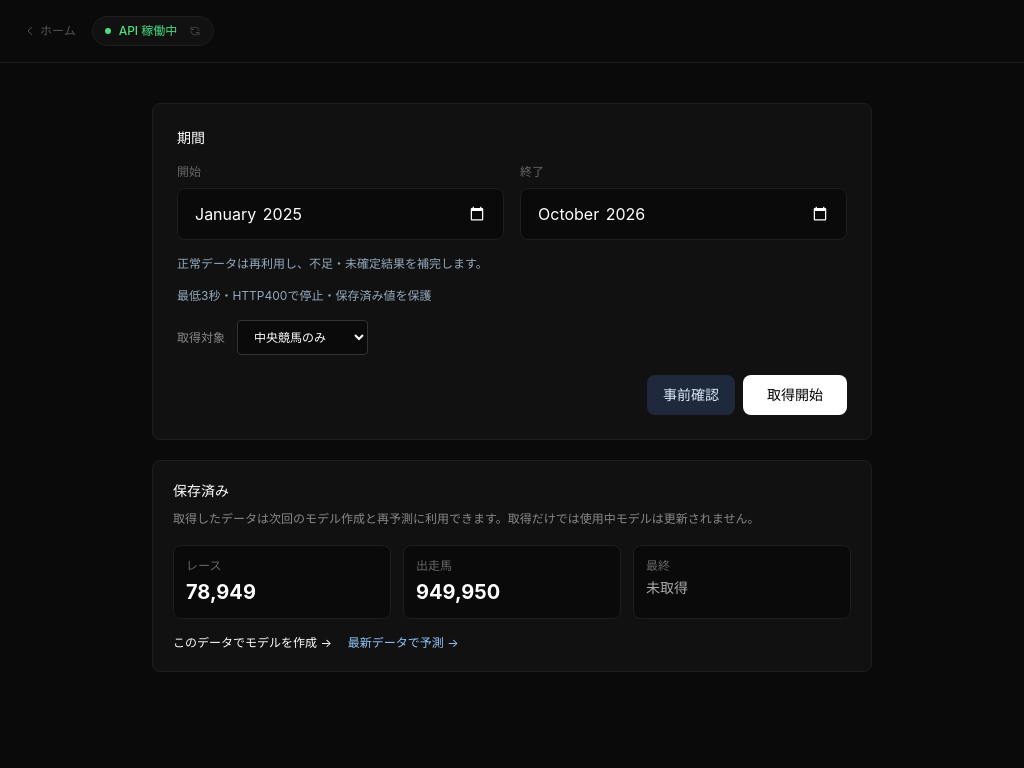
Test: collection acquisition-only presentation › rechecks central capability before preflight instead of trusting an older successful page check
Check: the button with test id "dry-run-button" is enabled, box [647,375,735,415]
Replace the text in the field with test id "start-period-input" with "2026-09" at (340, 214), box [177,188,504,240]
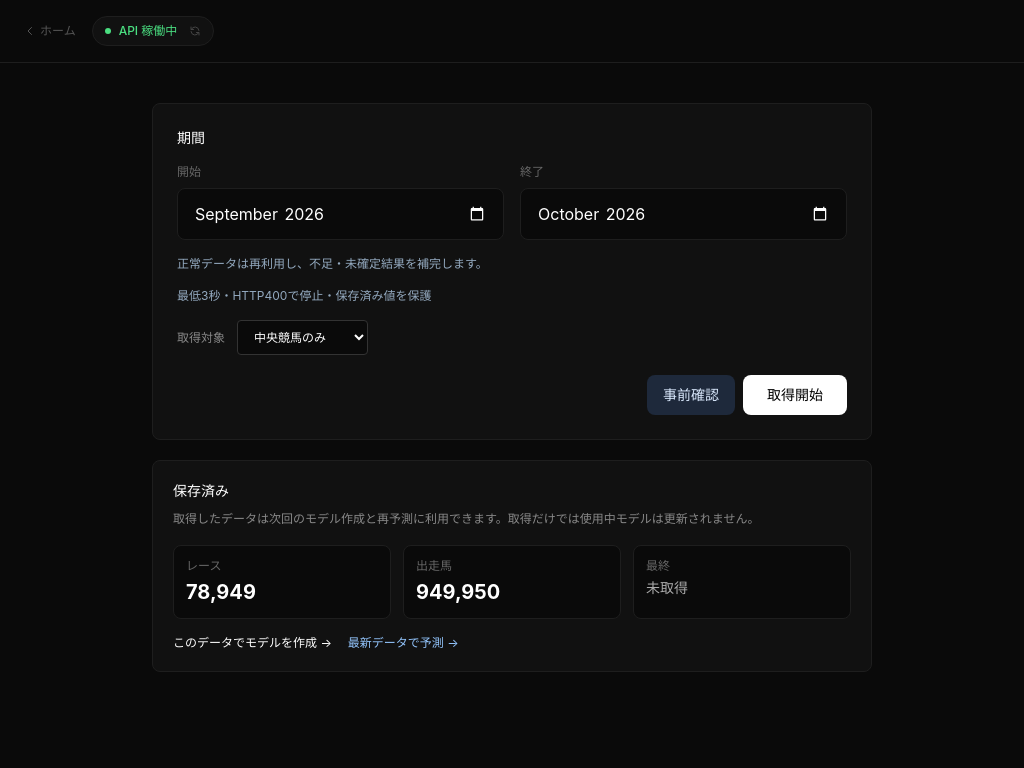
Replace the text in the field with test id "end-period-input" with "2026-09" at (684, 214), box [520,188,847,240]
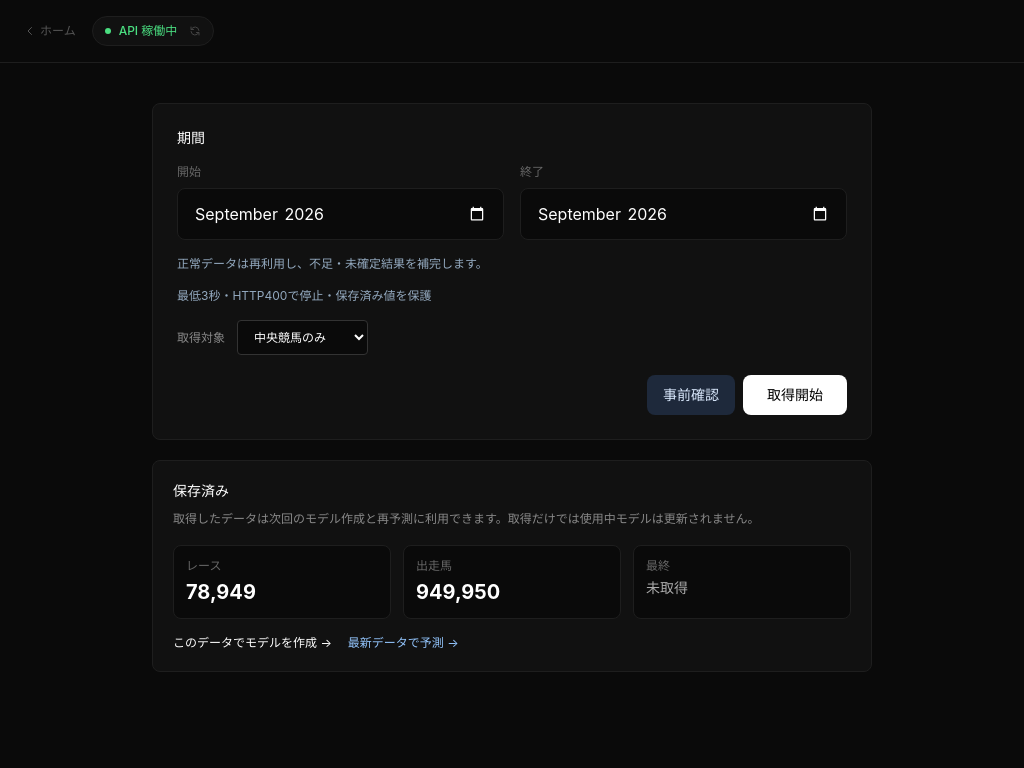
Click the button with test id "dry-run-button".
click(691, 395)  # box [647,375,735,415]
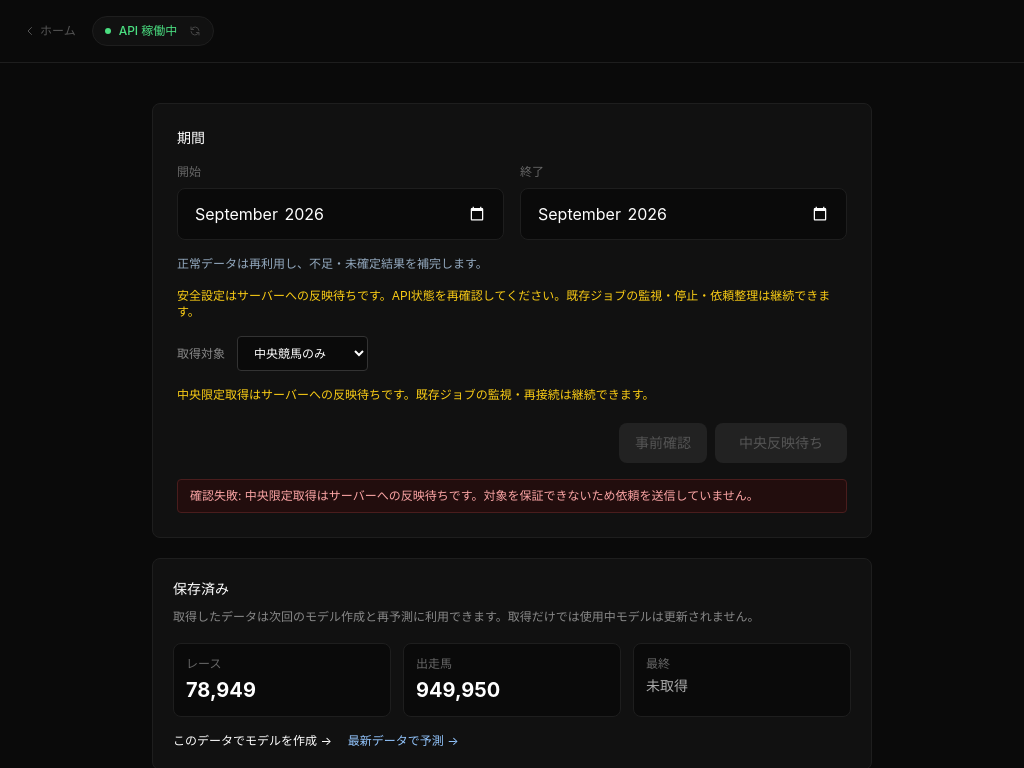
Check: the message with test id "jra-scrape-server-pending" shows "サーバーへの反映待ち", box [177,387,654,402]
